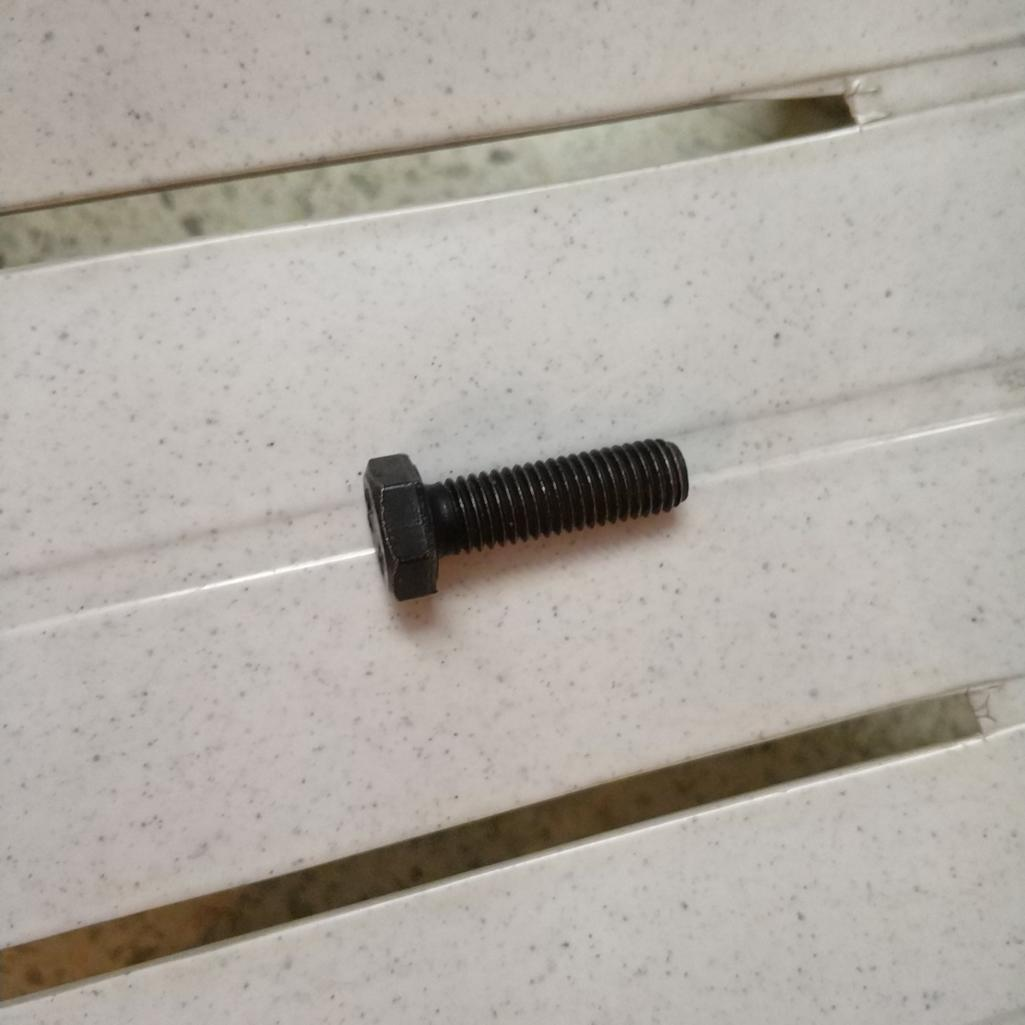screwtype2black: (349, 430, 696, 604)
